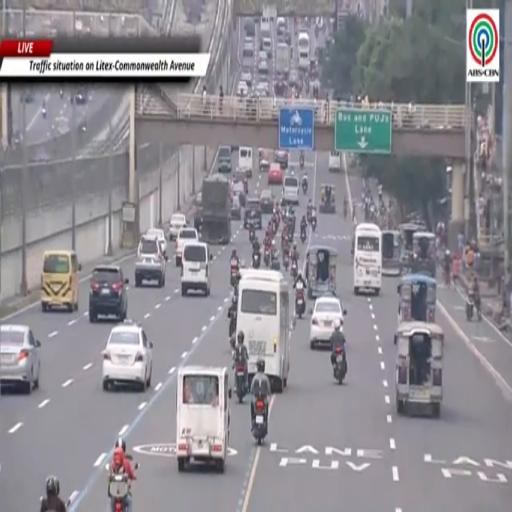bus: (237, 269, 290, 392), (354, 223, 381, 295), (298, 31, 310, 70), (260, 13, 271, 38)
car: (102, 322, 152, 391), (0, 325, 40, 393), (89, 265, 128, 323), (310, 295, 346, 348), (181, 242, 212, 296), (135, 236, 166, 287), (175, 228, 198, 266), (146, 229, 167, 259), (245, 198, 262, 229), (282, 173, 299, 204), (169, 214, 186, 241), (233, 169, 248, 195), (231, 182, 246, 205), (260, 189, 273, 214), (268, 163, 282, 185), (194, 192, 202, 230), (274, 150, 288, 169), (231, 196, 241, 219), (75, 87, 88, 104), (261, 38, 272, 58), (259, 149, 269, 171), (256, 82, 270, 97), (243, 38, 254, 57), (240, 69, 252, 86), (244, 19, 255, 37), (237, 82, 248, 97), (289, 70, 299, 86), (258, 59, 268, 73), (258, 51, 267, 60)
jeepney: (396, 323, 443, 418), (397, 275, 436, 324), (306, 246, 337, 298), (399, 223, 420, 274), (412, 232, 435, 278), (382, 230, 400, 276)
motorcycle: (108, 471, 130, 511), (252, 399, 267, 444), (334, 347, 346, 385), (236, 362, 246, 403), (466, 298, 481, 321), (295, 289, 306, 319), (229, 306, 236, 337), (466, 298, 474, 321), (230, 265, 238, 286), (271, 253, 280, 270), (252, 251, 260, 268), (291, 260, 297, 280), (444, 267, 450, 286), (264, 249, 270, 267), (306, 207, 312, 224), (283, 253, 289, 270), (249, 227, 255, 243), (302, 181, 308, 195), (288, 227, 293, 243), (273, 220, 278, 235), (230, 335, 235, 350), (301, 230, 306, 244), (41, 107, 46, 119), (312, 217, 316, 232), (300, 154, 304, 168), (65, 500, 71, 509), (344, 204, 347, 219), (60, 88, 64, 99)
truck: (202, 174, 231, 244), (276, 43, 290, 78)
